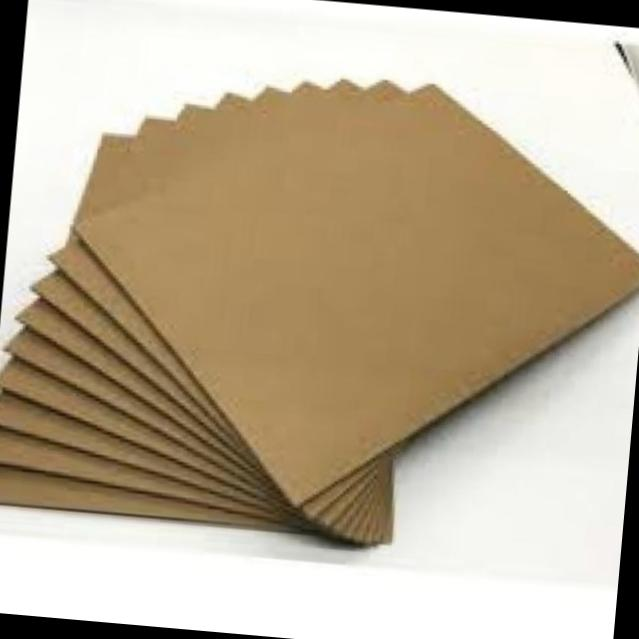cardboard paper: (0, 79, 639, 542)
